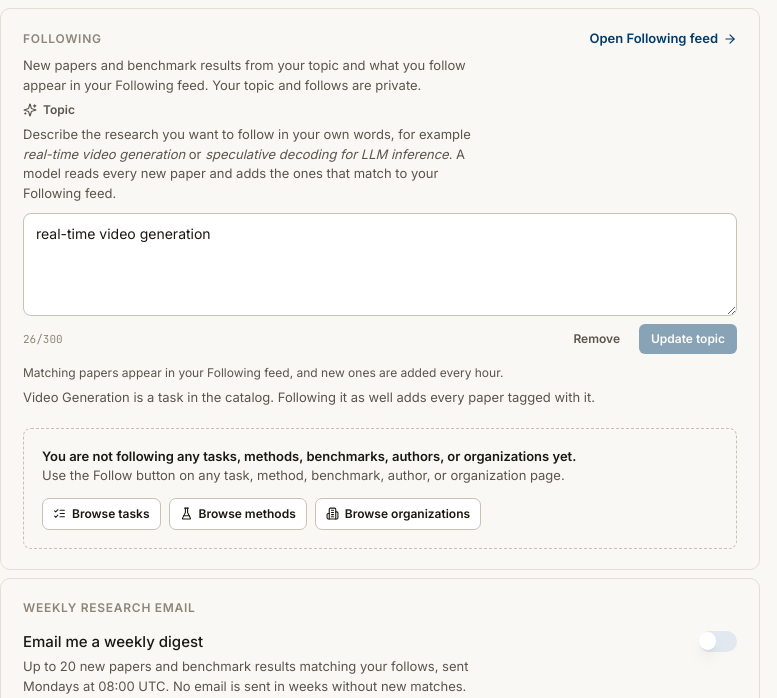
Test: research topic › removes the topic and names exact catalog matches
Expected: the text "new ones are added every hour" is shown, [23,365,503,380]
Click the button "Remove": (597,339) [562,324,631,354]
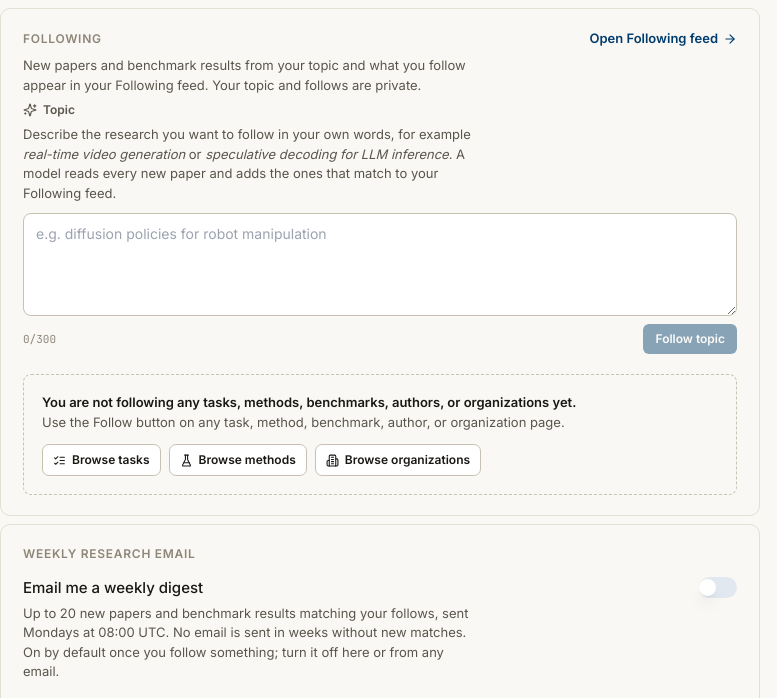
Expected: the button "Follow topic" is shown, [644,324,737,354]
Expected: the text box named "Research topic" is empty, [23,213,737,316]
